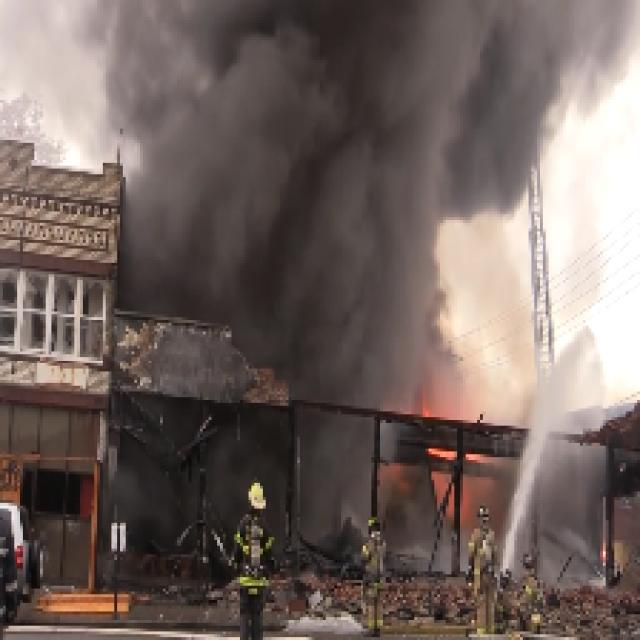Smoke: (123, 3, 526, 300), (531, 2, 640, 168), (297, 306, 377, 514), (17, 2, 120, 138)
